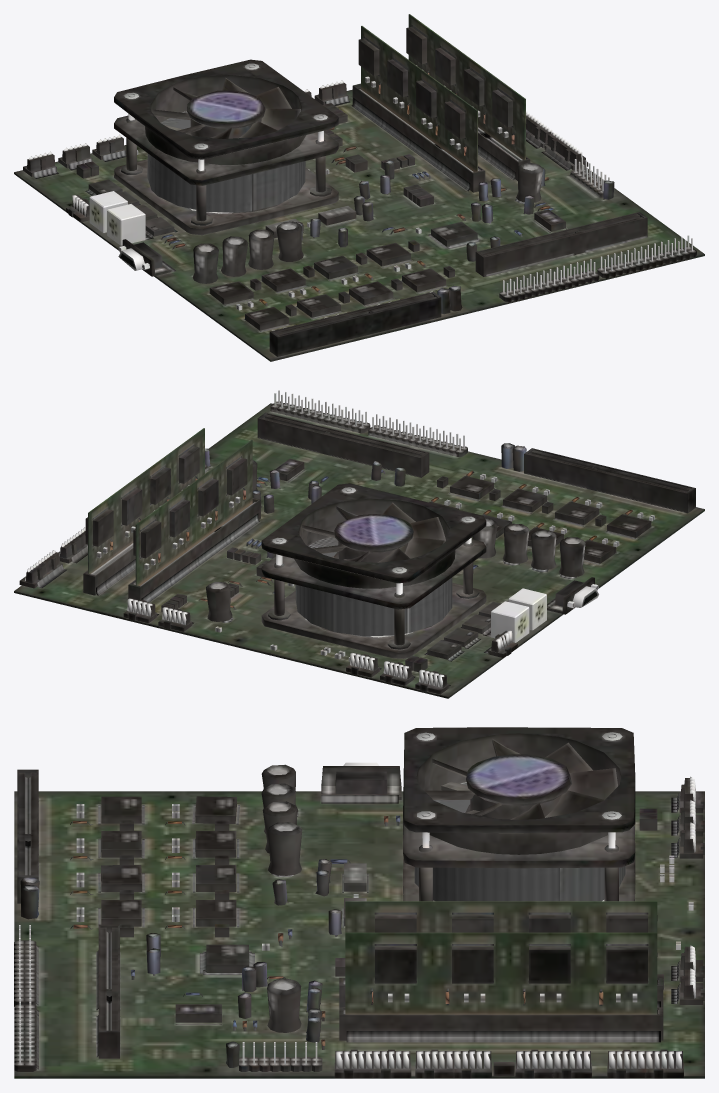
File: circuit_board.e912fcdc.glb
3 renders of one model, top to bottom at view 1: azimuth 30°, elevation 25°; view 2: azimuth 150°, elevation 25°; view 3: azimuth 270°, elevation 25°, orthographic. The views are drawn at different scales.
Visible parts, largest first — view 1: circuit_board; view 2: circuit_board; view 3: circuit_board.
Part boxes in pixels (x1,y1,x2,y2): circuit_board: [14, 14, 704, 361]; circuit_board: [14, 390, 704, 698]; circuit_board: [14, 727, 704, 1078].
Bounding box in the file's own units: 0.7311 × 0.1405 × 0.72.
Materials: 2 (2 with a texture image).
